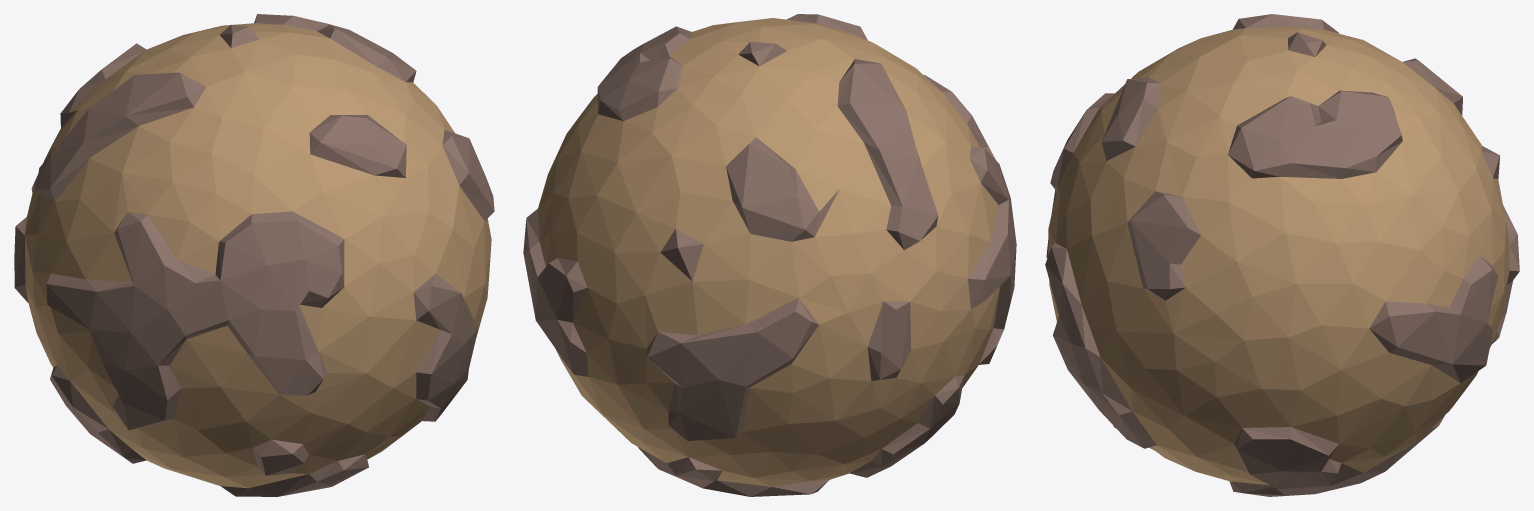
Rendered from Mercury.glb.
The picture shows the model from 3 angles, left to right: view 1: azimuth 30°, elevation 25°; view 2: azimuth 150°, elevation 25°; view 3: azimuth 270°, elevation 25°; orthographic projection.
Visible parts, largest first — view 1: Mercury; view 2: Mercury; view 3: Mercury.
Boxes of the visible parts, x1,y1,x2,y2 form: Mercury: (14,14,494,496); Mercury: (523,14,1016,496); Mercury: (1045,14,1519,496).
Bounding box in the file's own units: 100 × 100 × 100.
Materials: 1 (1 with a texture image).
